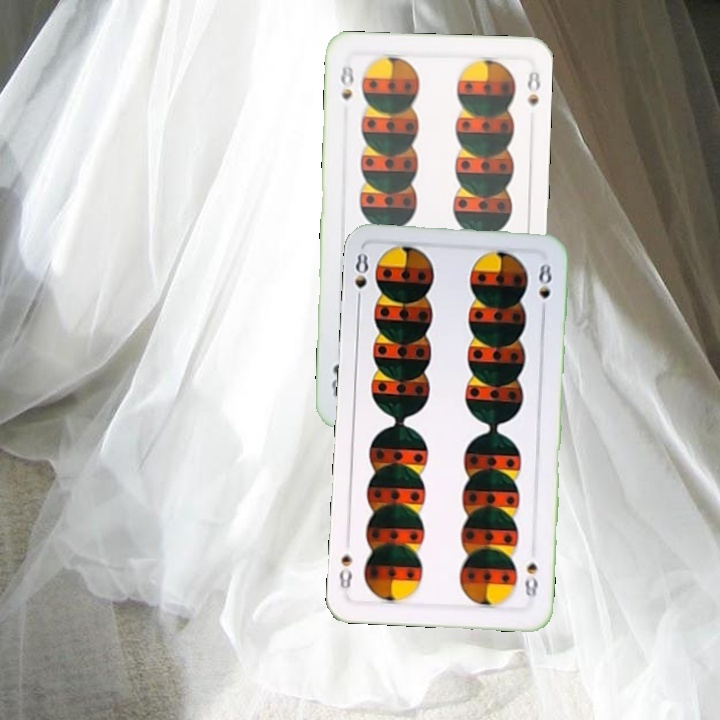S8: (351, 247, 371, 307), (336, 61, 357, 102), (520, 559, 541, 600)
